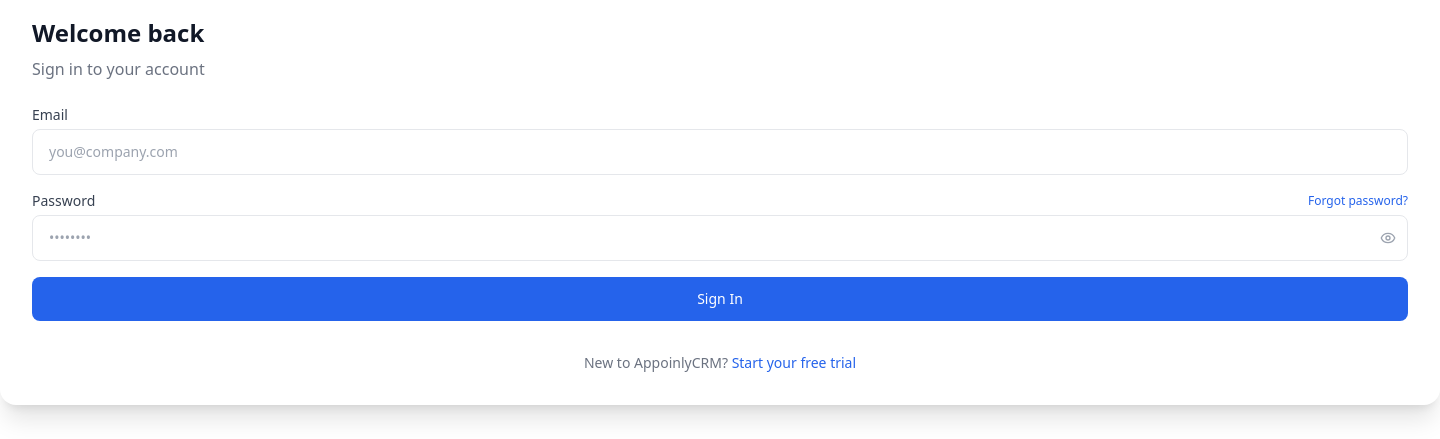
Test: Login page › returns to the login form when "Back to login" is clicked from the 2FA prompt
Type "user@example.com" into the field with placeholder "you@company.com".
click(720, 152); type("user@example.com")  # box [32,129,1408,175]
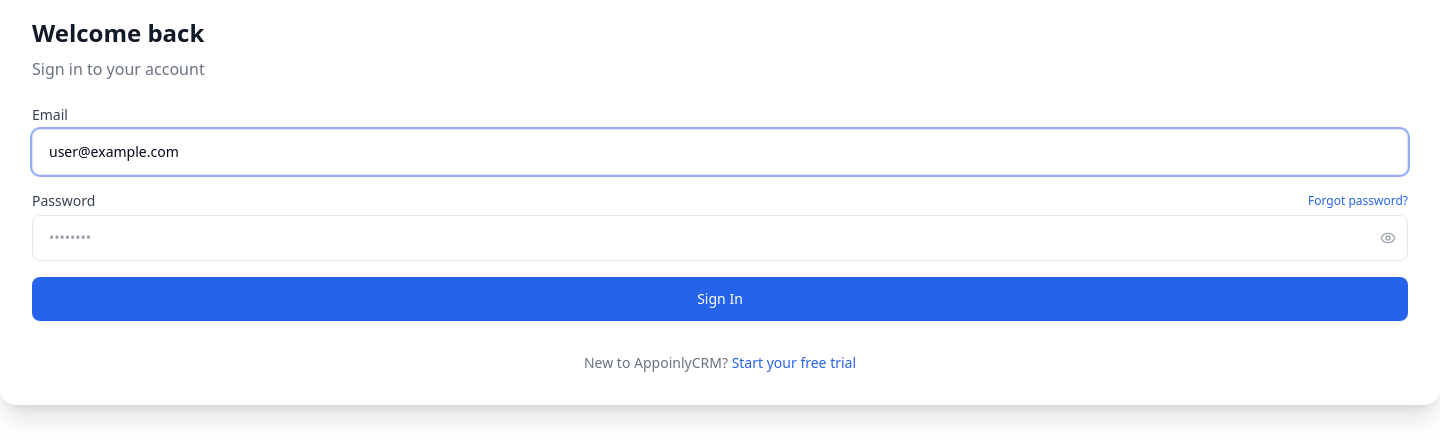
Type "password1" into the password field with placeholder "••••••••".
click(720, 238); type("password1")  # box [32,215,1408,261]
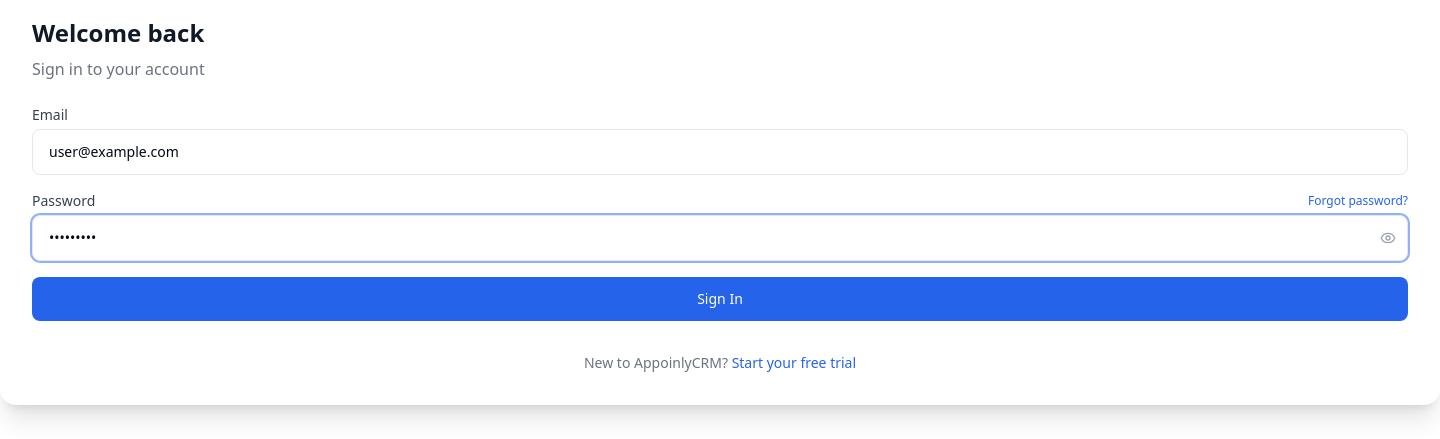
Click the button "Sign In".
click(720, 299)  # box [32,277,1408,321]
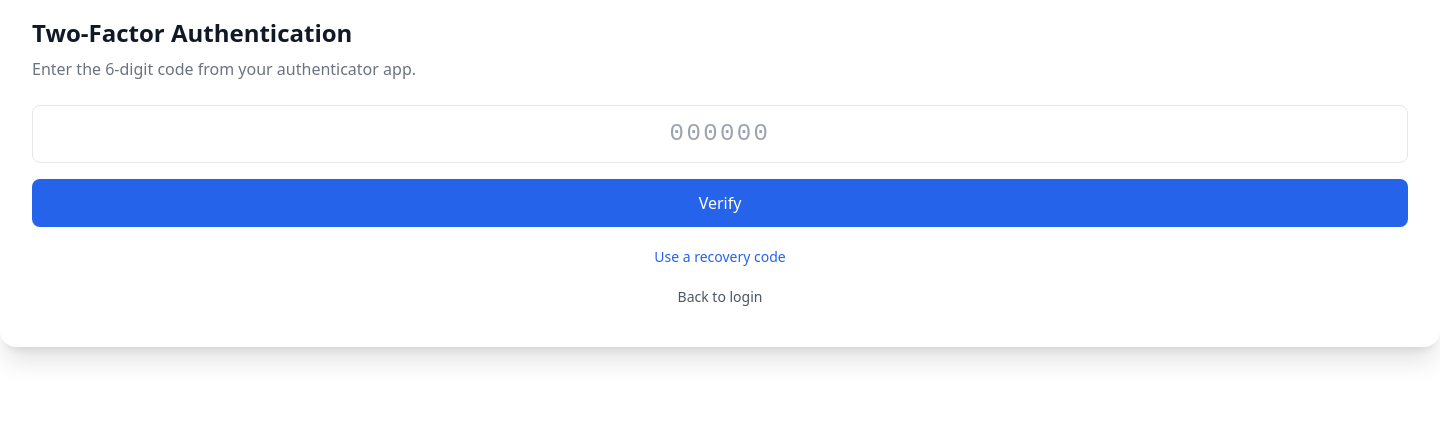
Expected: the heading "Two-Factor Authentication" is shown, [32,16,352,49]
Click the button "Back to login".
click(720, 297)  # box [32,279,1408,315]
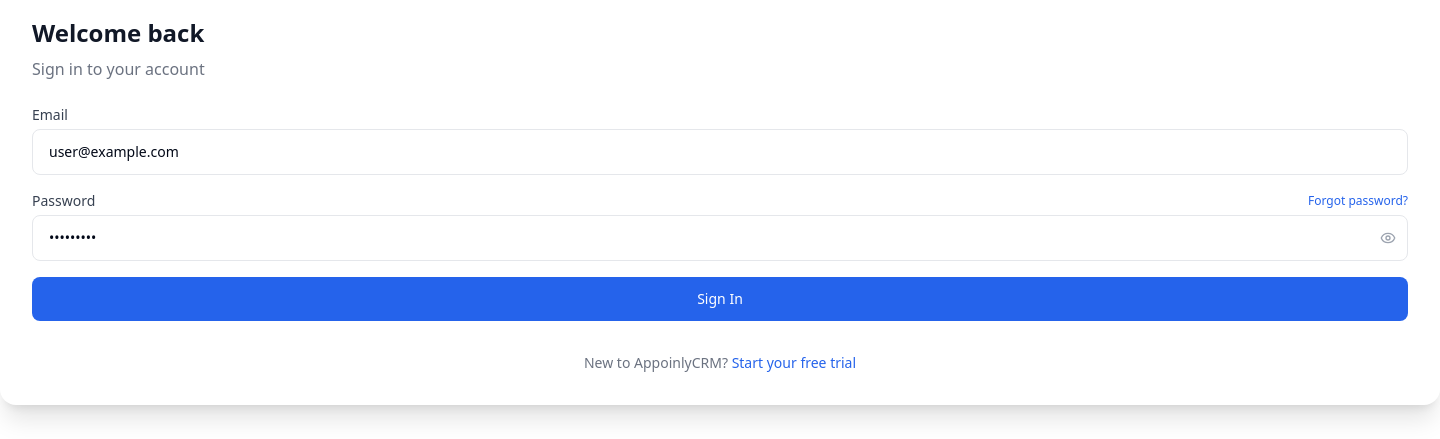
Expected: the heading "Welcome back" is shown, [32,16,204,49]
